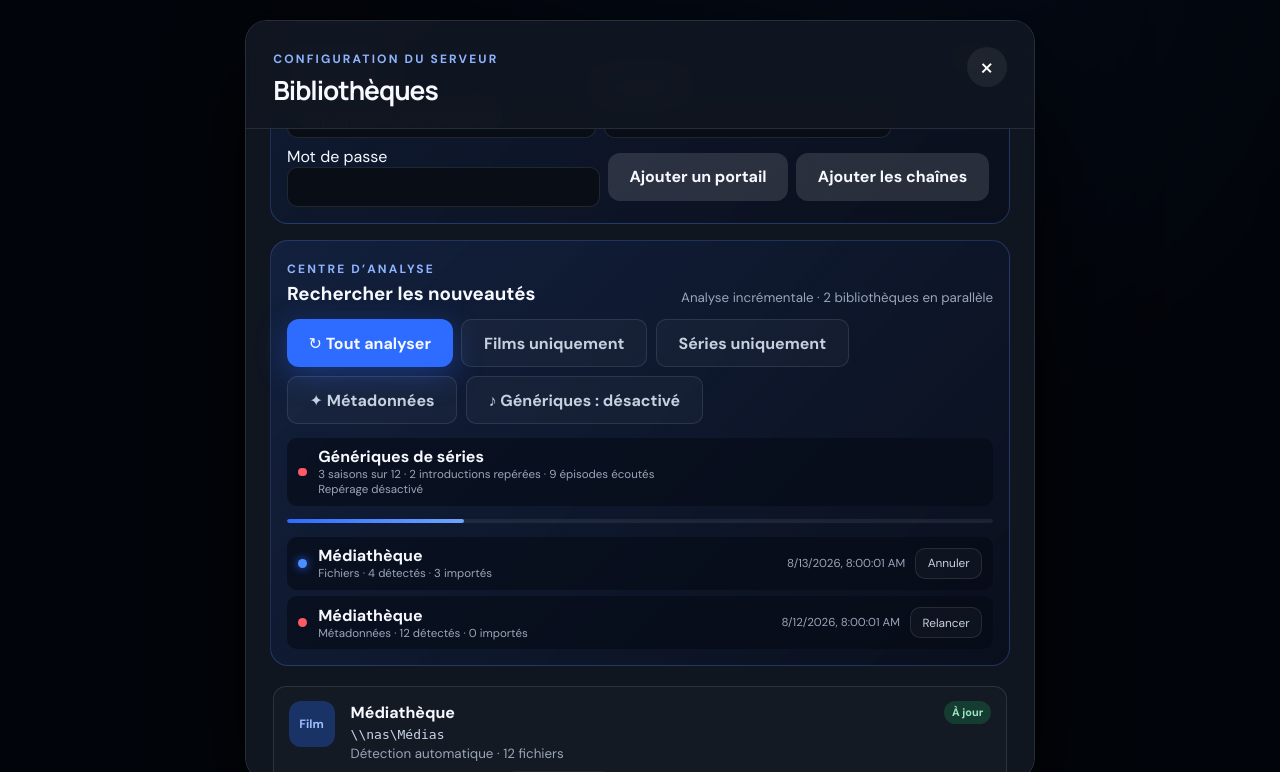
Scenario: centre d'analyse et bibliothèques › le repérage des génériques s'allume depuis l'écran, et s'affiche éteint par défaut
(page scrolled)
Check: the text "Repérage désactivé" is shown, box x1=318 y1=482 x2=423 y2=497
Click the button "♪ Génériques : désactivé". click: (584, 400)
box: x1=466 y1=376 x2=703 y2=424
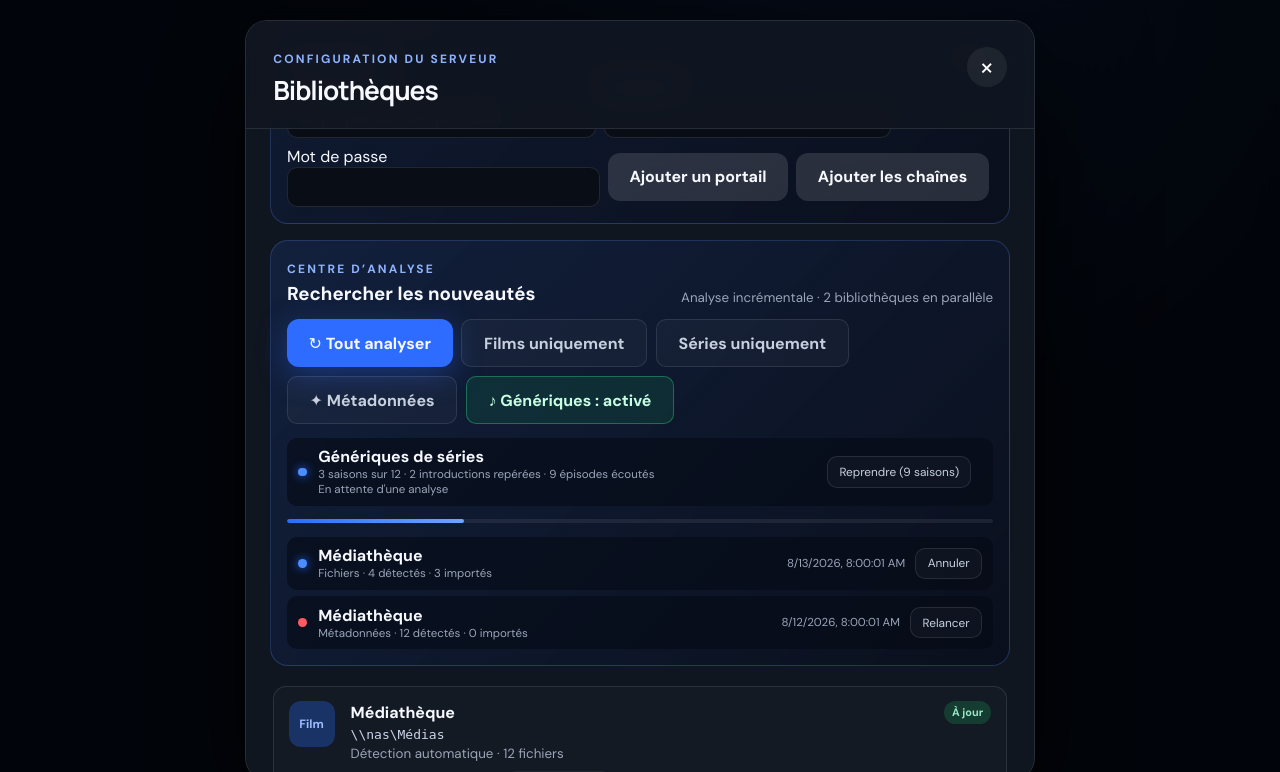
Check: the button "♪ Génériques : activé" is shown, box x1=466 y1=376 x2=674 y2=424
